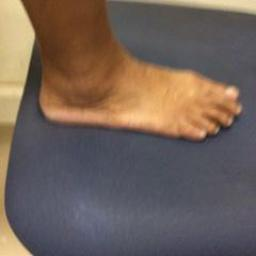Lateral View -Right Foot-: (28, 24, 247, 152)
